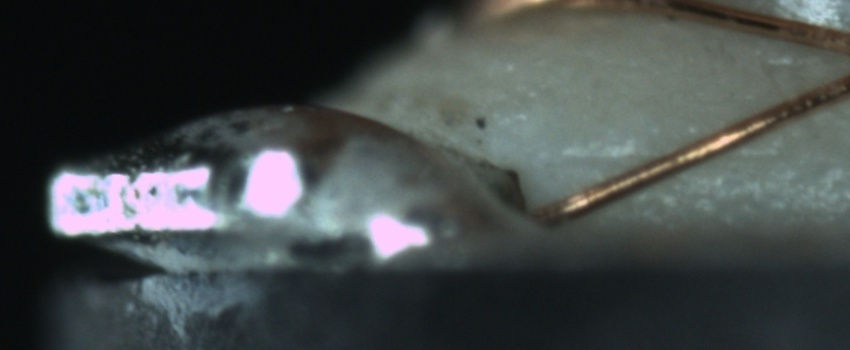DL: (549, 127, 833, 185)
